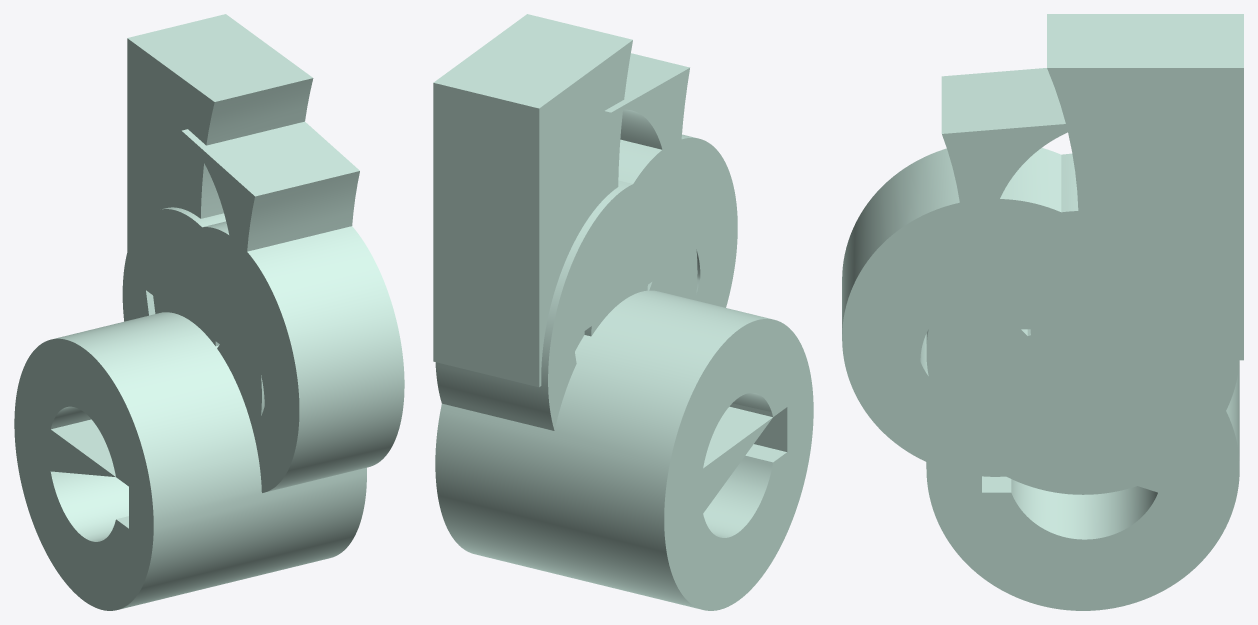
3 views of the same model, side by side, from view 1: azimuth 30°, elevation 25°; view 2: azimuth 150°, elevation 25°; view 3: azimuth 270°, elevation 25° (orthographic). The views are drawn at different scales.
Visible parts, largest first — view 1: Renderer Node; view 2: Renderer Node; view 3: Renderer Node.
Part boxes in pixels (x1=…): Renderer Node: x1=14, y1=14, x2=404, y2=610; Renderer Node: x1=433, y1=14, x2=813, y2=610; Renderer Node: x1=842, y1=14, x2=1243, y2=610.
Bounding box in the file's own units: 0.5234 × 1.13 × 0.7594.
